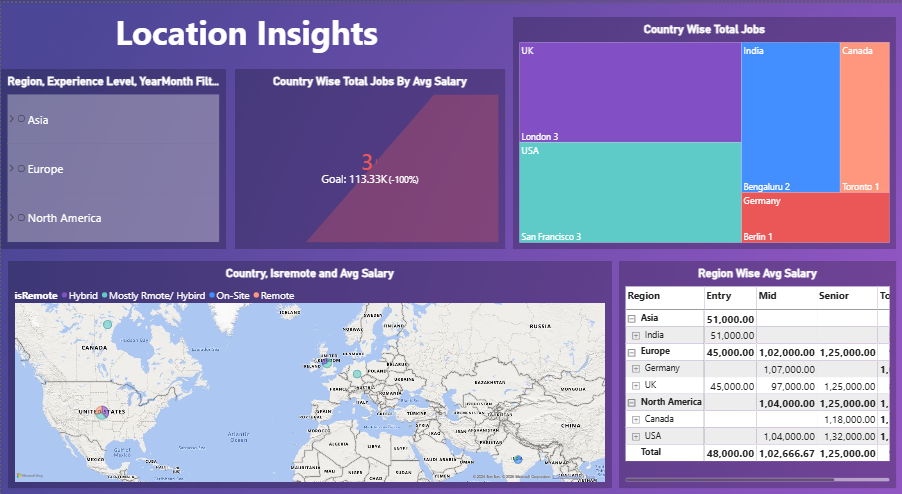

This screenshot's page, from the dashboard's own definition file:
{"tool":"powerbi","page":{"name":"Location Insight","canvas":[2200,1200],"ordinal":1},"visuals":[{"type":"textbox","box":[0,17.1,1197.6,124.4],"z":0},{"type":"listSlicer","title":"Region, Experience Level, YearMonth Filter","fields":{"Values":["Dim_Locations.Region","Fact_Jobs.Experience_Level","Dim_Date.Year-Month"]},"box":[0,161,548.8,439],"z":1000},{"type":"map","title":"Country, Isremote and Avg Salary","fields":{"Category":["Dim_Locations.Country"],"Series":["Fact_Jobs.isRemote"],"Size":["Fact_Jobs.Average_Salary_Per_Country"]},"box":[17.1,629.3,1473.2,553.7],"z":2000},{"type":"kpi","title":"Country Wise Total Jobs By Avg Salary","fields":{"Goal":["Fact_Jobs.Average_Salary_Per_Country"],"Indicator":["All_Measures.Total_Jobs"],"TrendLine":["Dim_Locations.Country"]},"box":[570.7,161,658.5,439],"z":3000},{"type":"treemap","title":"Country Wise Total Jobs","fields":{"Details":["Dim_Locations.City"],"Group":["Dim_Locations.Country"],"Values":["All_Measures.Total_Jobs"]},"box":[1248.8,34.1,934.1,565.9],"z":4000},{"type":"pivotTable","title":"Region Wise Avg Salary","fields":{"Columns":["Fact_Jobs.Experience_Level"],"Rows":["Dim_Locations.Region","Dim_Locations.Country","Dim_Locations.City"],"Values":["Fact_Jobs.Average_Salary_Per_Country"]},"box":[1507.3,629.3,675.6,553.7],"z":5000}]}

Visuals, with their boxes in screenshot pixels (x1, y1, x2, y2), scaled from the page's 2200x1200 canvas onto the 902x494 screenshot:
textbox: l=0, t=7, r=491, b=58
"Region, Experience Level, YearMonth Filter" listSlicer: l=0, t=66, r=225, b=247
"Country, Isremote and Avg Salary" map: l=7, t=259, r=611, b=487
"Country Wise Total Jobs By Avg Salary" kpi: l=234, t=66, r=504, b=247
"Country Wise Total Jobs" treemap: l=512, t=14, r=895, b=247
"Region Wise Avg Salary" pivotTable: l=618, t=259, r=895, b=487
